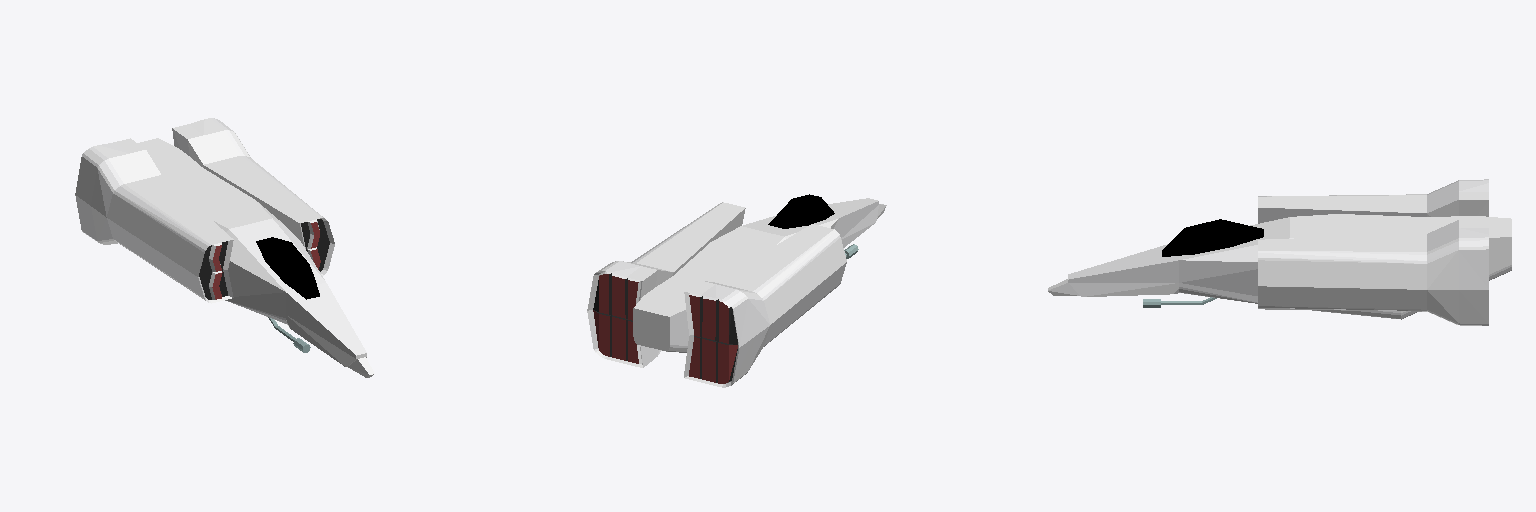
Rendered from Caza UNE.obj.
3 views of the same model, side by side, from view 1: azimuth 30°, elevation 25°; view 2: azimuth 150°, elevation 25°; view 3: azimuth 270°, elevation 25° (orthographic).
Parts seen in each view (by area): view 1: Caza UNE; view 2: Caza UNE; view 3: Caza UNE.
Boxes of the visible parts, <box> form: Caza UNE: <box>75,118,374,377</box>; Caza UNE: <box>587,194,886,387</box>; Caza UNE: <box>1048,179,1511,325</box>.
Bounding box in the file's own units: 1.26 × 0.7487 × 3.34.